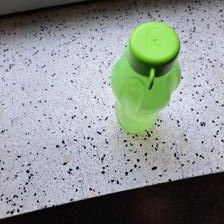bottle: (108, 19, 185, 135)
